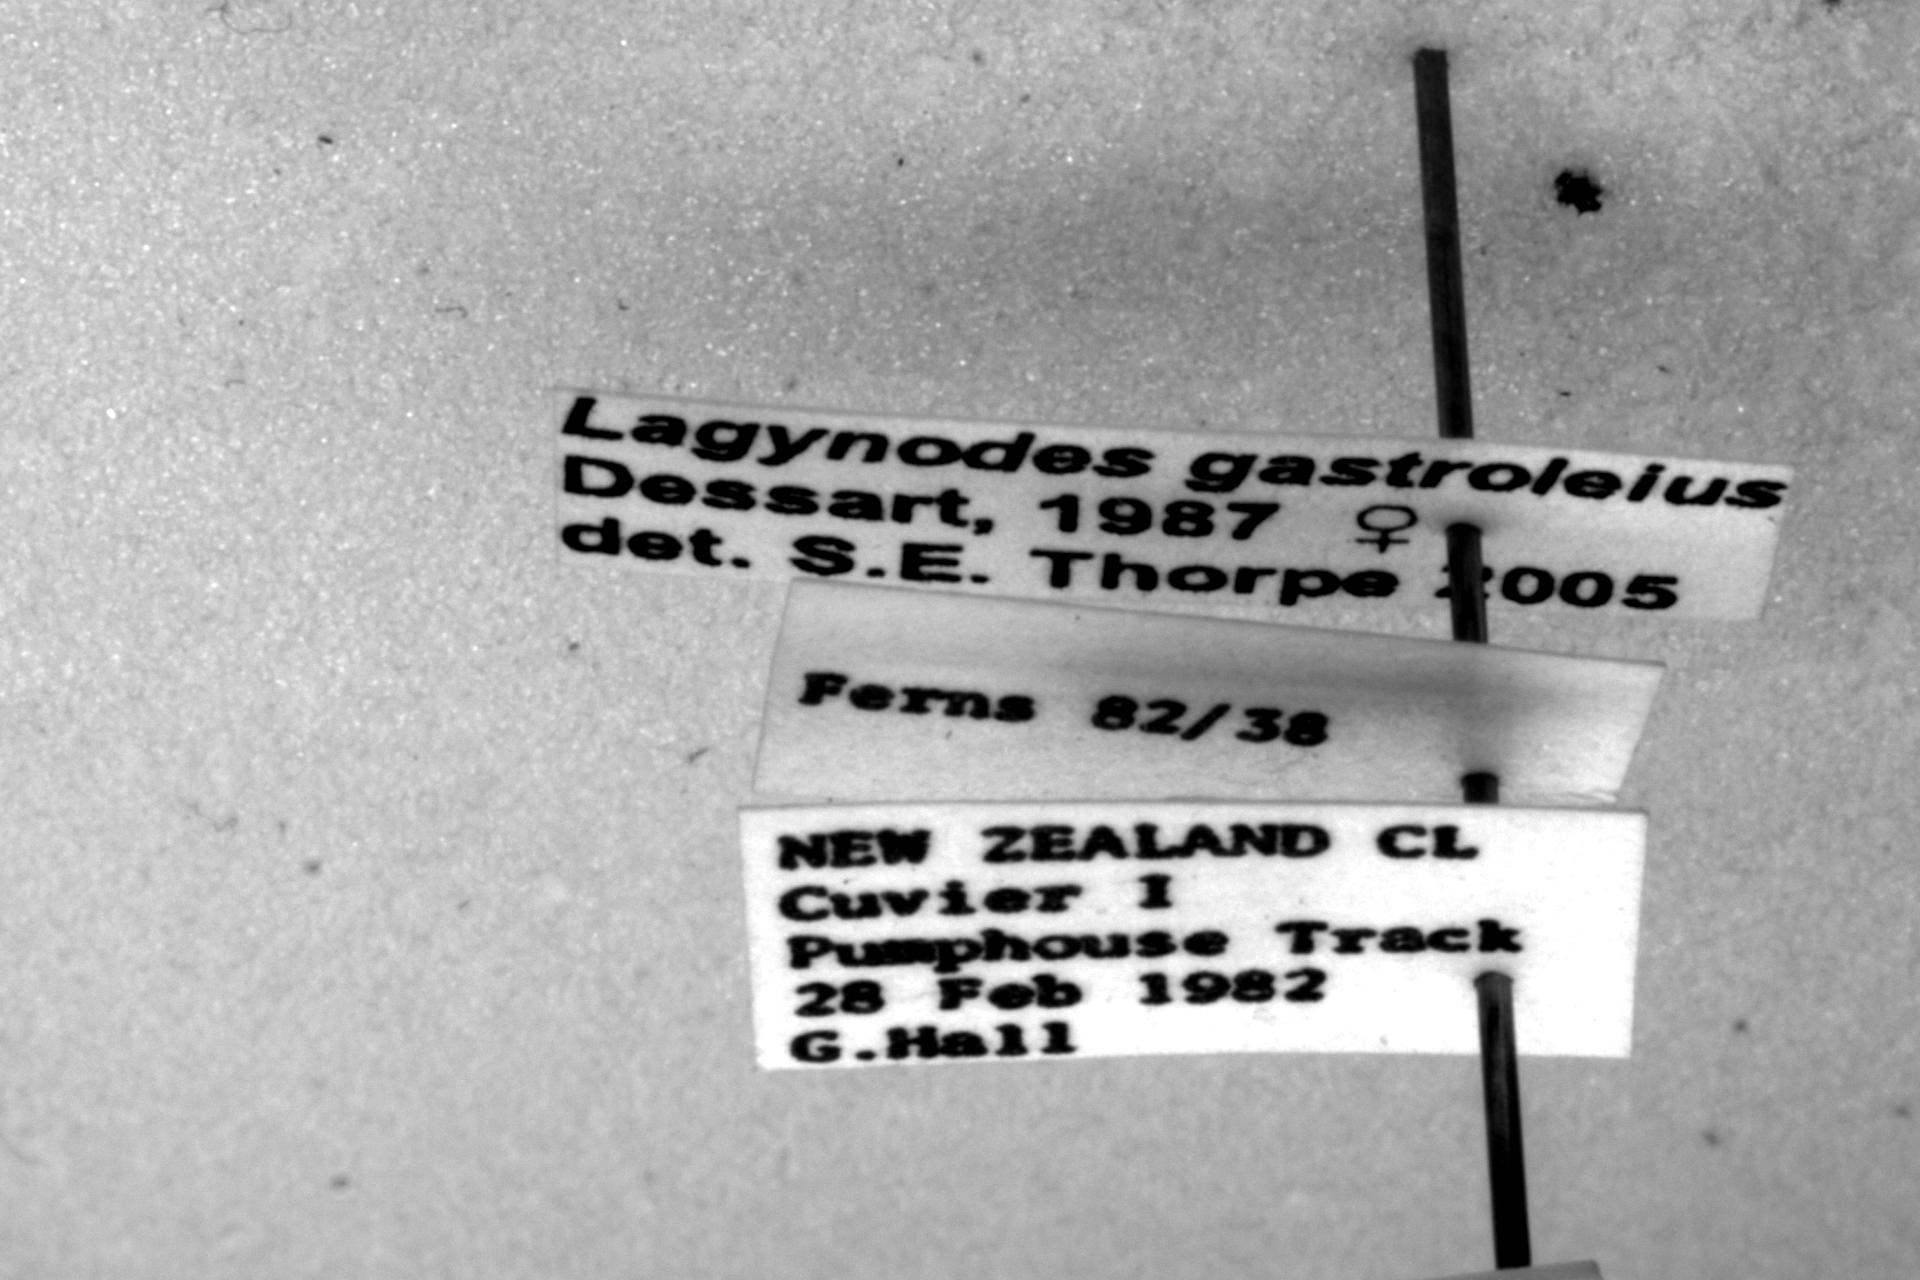typed_label: (554, 390, 1793, 619), (739, 803, 1646, 1069), (754, 581, 1661, 806)
